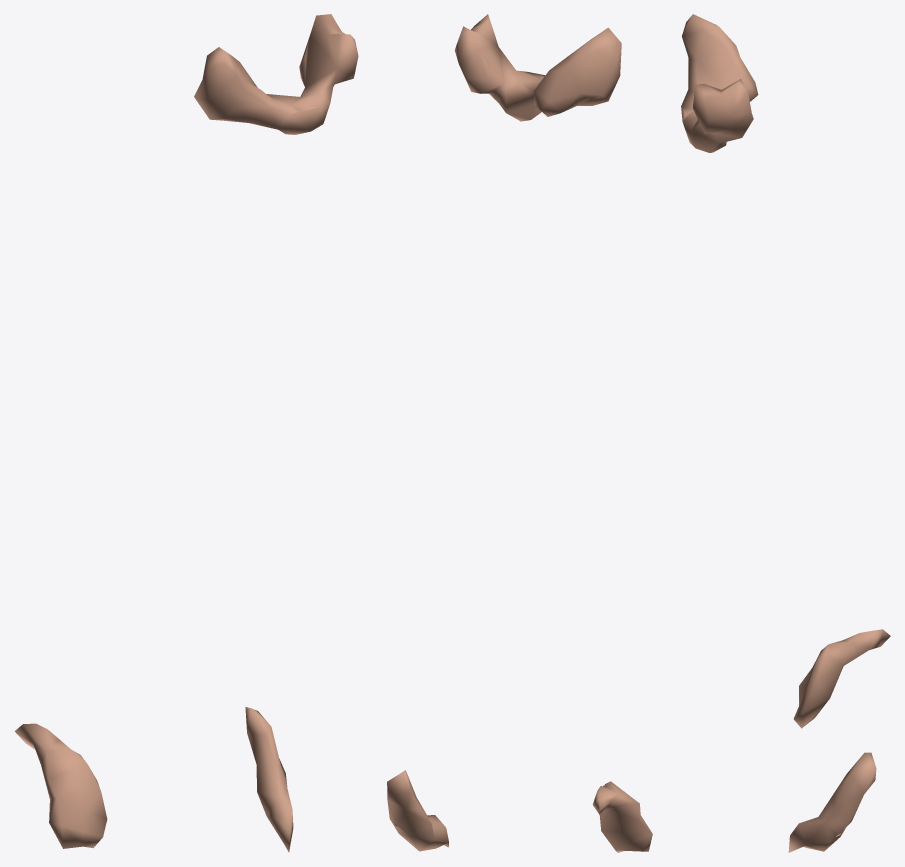
Rendered from tsd_s0196_older_adult_female.endocrine.LOD3.glb.
3 views of the same model, side by side, from view 1: azimuth 30°, elevation 25°; view 2: azimuth 150°, elevation 25°; view 3: azimuth 270°, elevation 25° (orthographic). The views are drawn at different scales.
Parts seen in each view (by area): view 1: TSD_S0196.OLDER_ADULT.FEMALE.ENDOCRINE.THYROID_GLAND, TSD_S0196.OLDER_ADULT.FEMALE.ENDOCRINE.ADRENAL_GLAND.R, TSD_S0196.OLDER_ADULT.FEMALE.ENDOCRINE.ADRENAL_GLAND.L; view 2: TSD_S0196.OLDER_ADULT.FEMALE.ENDOCRINE.THYROID_GLAND, TSD_S0196.OLDER_ADULT.FEMALE.ENDOCRINE.ADRENAL_GLAND.R, TSD_S0196.OLDER_ADULT.FEMALE.ENDOCRINE.ADRENAL_GLAND.L; view 3: TSD_S0196.OLDER_ADULT.FEMALE.ENDOCRINE.THYROID_GLAND, TSD_S0196.OLDER_ADULT.FEMALE.ENDOCRINE.ADRENAL_GLAND.L, TSD_S0196.OLDER_ADULT.FEMALE.ENDOCRINE.ADRENAL_GLAND.R.
Boxes of the visible parts, <box> form: TSD_S0196.OLDER_ADULT.FEMALE.ENDOCRINE.THYROID_GLAND: <box>194,14,358,134</box>; TSD_S0196.OLDER_ADULT.FEMALE.ENDOCRINE.ADRENAL_GLAND.R: <box>14,723,107,848</box>; TSD_S0196.OLDER_ADULT.FEMALE.ENDOCRINE.ADRENAL_GLAND.L: <box>245,707,293,852</box>; TSD_S0196.OLDER_ADULT.FEMALE.ENDOCRINE.THYROID_GLAND: <box>454,14,621,121</box>; TSD_S0196.OLDER_ADULT.FEMALE.ENDOCRINE.ADRENAL_GLAND.R: <box>592,781,652,852</box>; TSD_S0196.OLDER_ADULT.FEMALE.ENDOCRINE.ADRENAL_GLAND.L: <box>387,770,448,851</box>; TSD_S0196.OLDER_ADULT.FEMALE.ENDOCRINE.THYROID_GLAND: <box>681,14,758,152</box>; TSD_S0196.OLDER_ADULT.FEMALE.ENDOCRINE.ADRENAL_GLAND.L: <box>788,752,876,852</box>; TSD_S0196.OLDER_ADULT.FEMALE.ENDOCRINE.ADRENAL_GLAND.R: <box>793,629,890,728</box>.
Bounding box in the file's own units: 0.0818 × 0.2621 × 0.0633.
